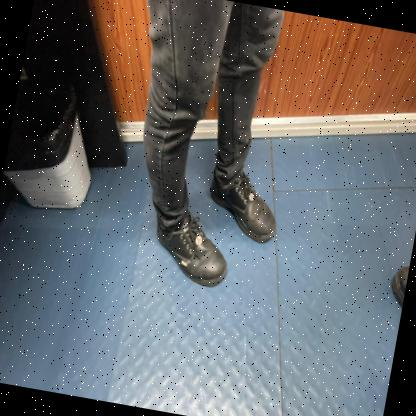bota: (147, 205, 237, 290), (201, 162, 285, 246)
